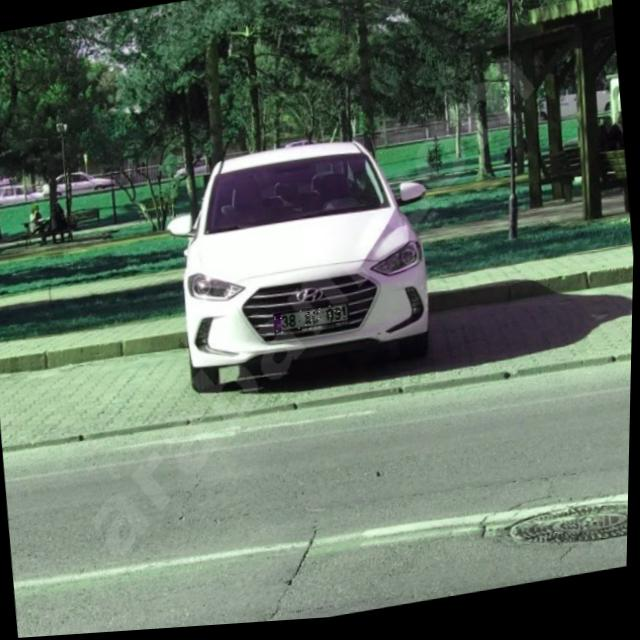license_plate: (274, 306, 350, 338)
